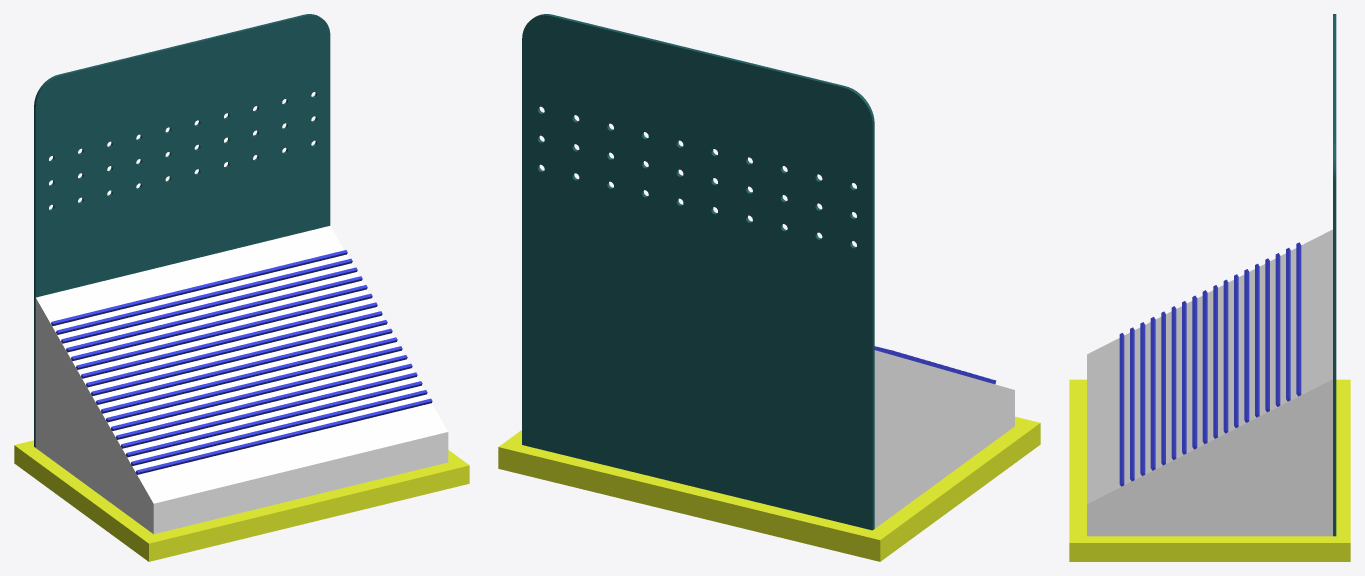
File: Faulamadina model 1.glb
The picture shows the model from 3 angles, left to right: view 1: azimuth 30°, elevation 25°; view 2: azimuth 150°, elevation 25°; view 3: azimuth 270°, elevation 25°; orthographic projection. The views are drawn at different scales.
Parts seen in each view (by area): view 1: Curve, Curve.001, Curve.002, Cube; view 2: Curve.001, Cube, Curve; view 3: Curve, Curve.002, Cube, Curve.001.
Boxes of the visible parts, x1,y1,x2,y2 form: Curve: (35, 226, 448, 534); Curve.001: (34, 14, 330, 447); Curve.002: (51, 250, 432, 474); Cube: (14, 440, 469, 561); Curve.001: (522, 14, 874, 530); Cube: (498, 416, 1040, 561); Curve: (874, 350, 1014, 528); Curve: (1087, 229, 1332, 536); Curve.002: (1119, 242, 1301, 486); Cube: (1069, 379, 1350, 561); Curve.001: (1333, 14, 1336, 536).
Size of the model in its own units: 5.5 by 6.3 by 4.
